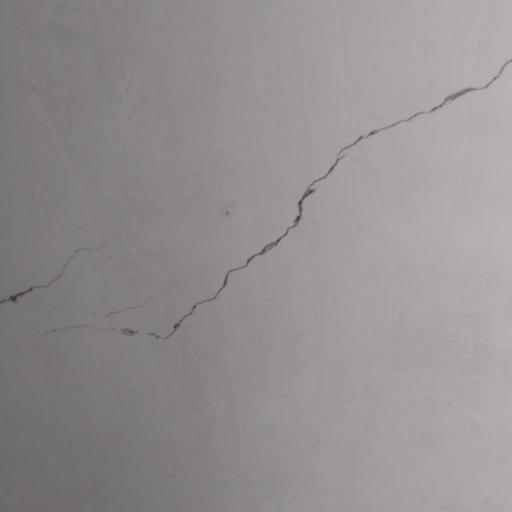major_crack: (0, 52, 512, 343)
